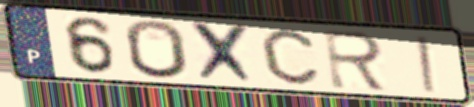6: (61, 14, 118, 76)
C: (258, 27, 322, 87)
I: (413, 34, 438, 95)
O: (122, 17, 192, 81)
R: (321, 27, 392, 94)
X: (188, 19, 261, 87)
